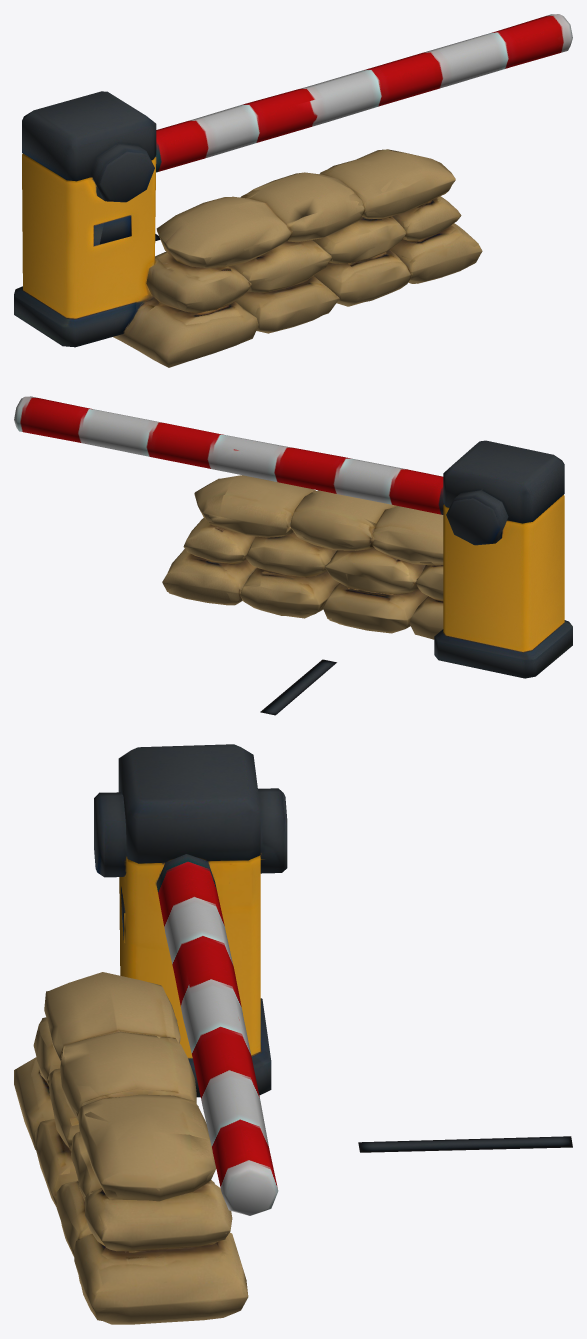
File: barrier+gate+3d+model.glb
3 views of the same model, one above another, from view 1: azimuth 30°, elevation 25°; view 2: azimuth 150°, elevation 25°; view 3: azimuth 270°, elevation 25° (orthographic). The views are drawn at different scales.
Parts seen in each view (by area): view 1: tripo_node_6ce33c75-e12e-4461-9ba5-2a3d6fd7e3e0; view 2: tripo_node_6ce33c75-e12e-4461-9ba5-2a3d6fd7e3e0; view 3: tripo_node_6ce33c75-e12e-4461-9ba5-2a3d6fd7e3e0.
Part boxes in pixels (x1=…): tripo_node_6ce33c75-e12e-4461-9ba5-2a3d6fd7e3e0: x1=14, y1=14, x2=572, y2=367; tripo_node_6ce33c75-e12e-4461-9ba5-2a3d6fd7e3e0: x1=14, y1=396, x2=572, y2=715; tripo_node_6ce33c75-e12e-4461-9ba5-2a3d6fd7e3e0: x1=14, y1=744, x2=572, y2=1324.
Bounding box in the file's own units: 0.998 × 0.3809 × 0.6152.
Materials: 1 (1 with a texture image).
